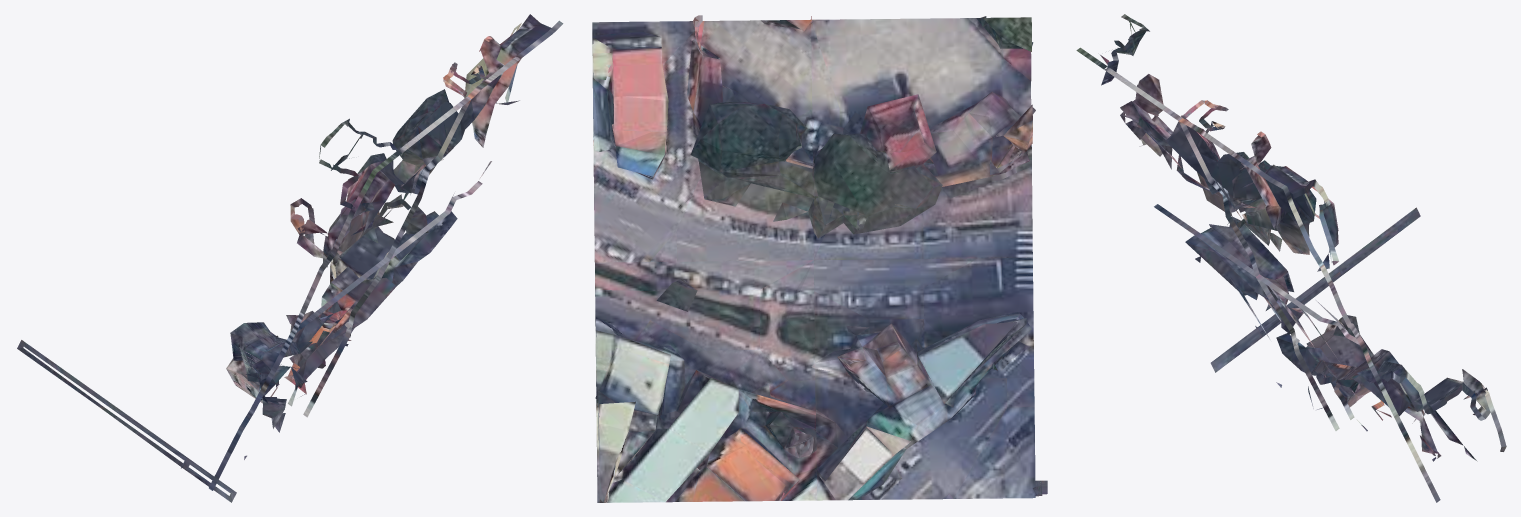
The picture shows the model from 3 angles, left to right: view 1: azimuth 30°, elevation 25°; view 2: azimuth 150°, elevation 25°; view 3: azimuth 270°, elevation 25°; orthographic projection. The views are drawn at different scales.
Size of the model in its own units: 97.07 by 74.97 by 76.31.
2 materials, 2 textured.
